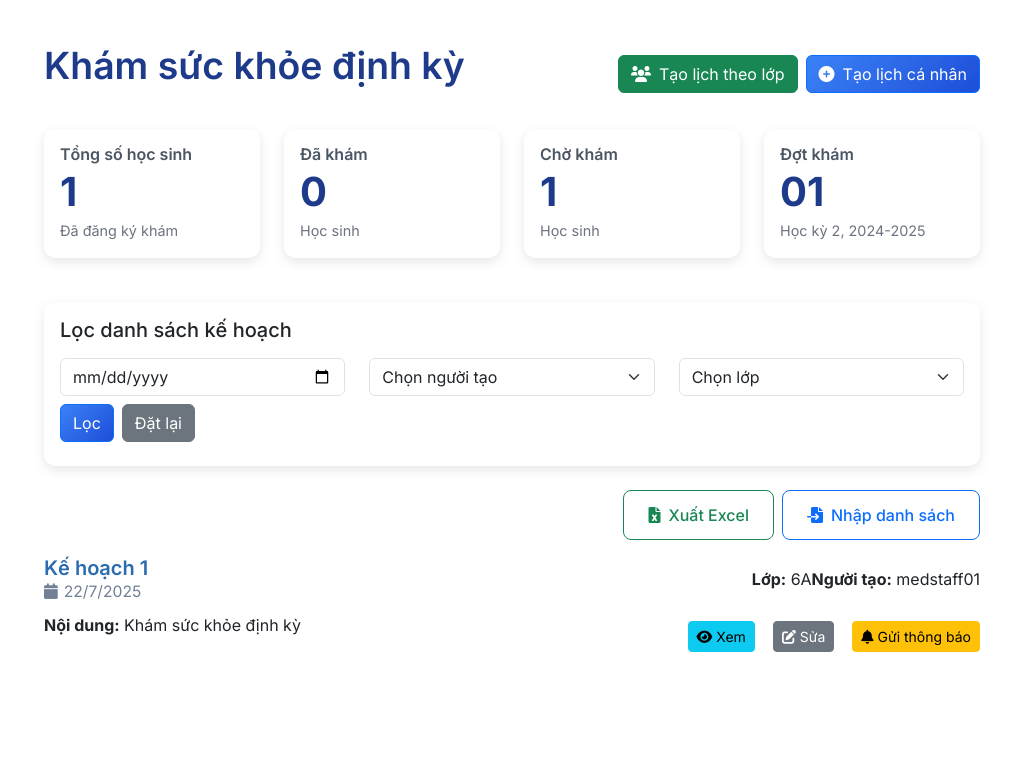
Test: HealthCheckManagement - Additional Uncovered Branches › handleUpdateResult closes detail and opens edit modal
Click the button with test id "edit-plan-btn-plan1" at {"x": 804, "y": 637}, box [773,621,834,652]
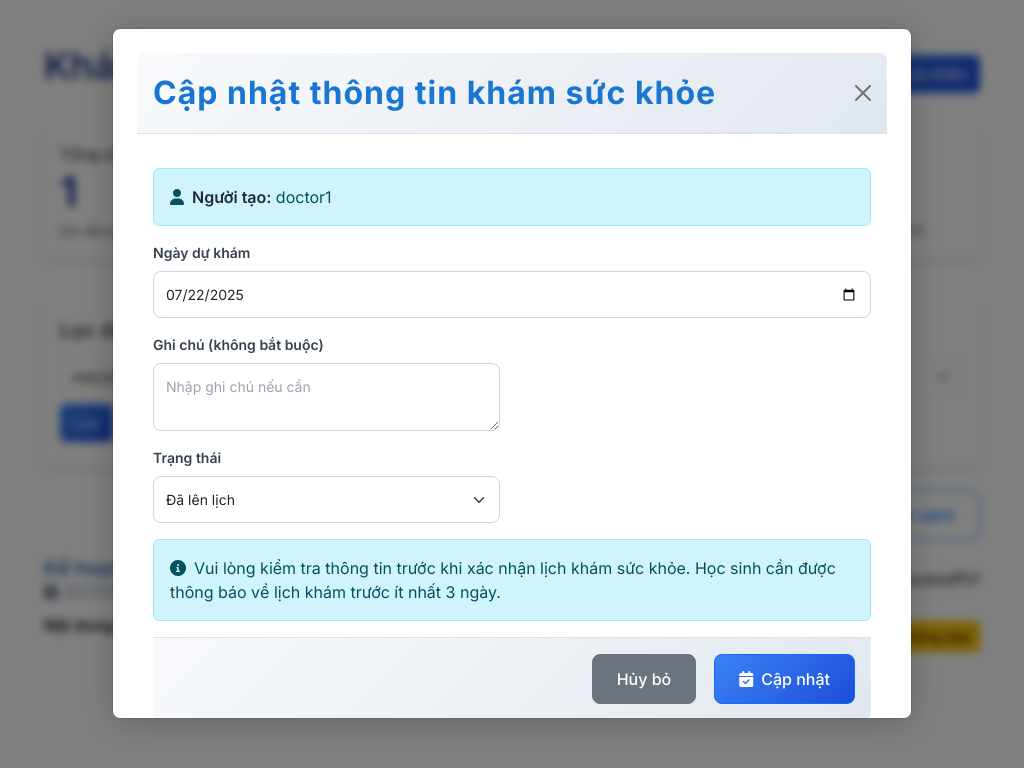
Expected: the element with test id "edit-plan-modal" is shown
